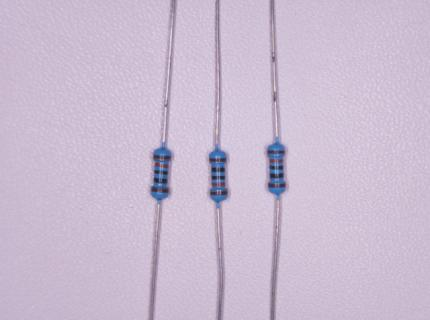Black band: (154, 170, 169, 175), (270, 173, 284, 178), (154, 178, 167, 183), (270, 166, 284, 170), (212, 168, 225, 172), (212, 176, 225, 180)
Brown band: (210, 191, 228, 196), (151, 187, 169, 192), (268, 183, 285, 188), (153, 155, 171, 159), (209, 158, 227, 162), (268, 150, 285, 154)
Orange band: (154, 162, 168, 168), (212, 182, 225, 186), (269, 159, 283, 162)
